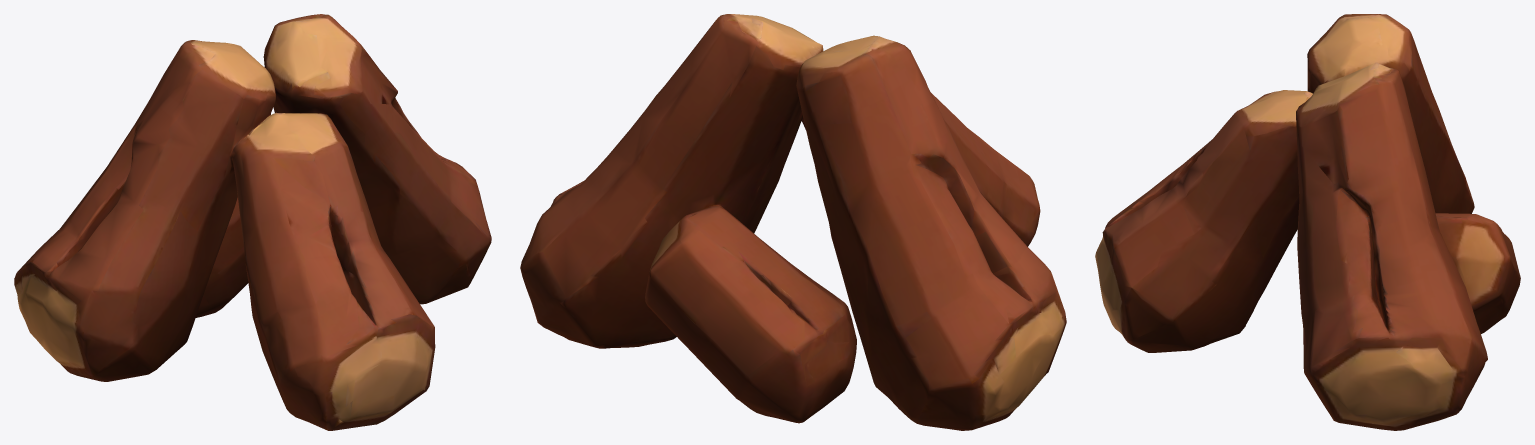
The model's file is firewood.glb.
3 renders of one model, left to right at view 1: azimuth 30°, elevation 25°; view 2: azimuth 150°, elevation 25°; view 3: azimuth 270°, elevation 25°, orthographic. The views are drawn at different scales.
Parts seen in each view (by area): view 1: firewood; view 2: firewood; view 3: firewood.
Boxes of the visible parts, x1,y1,x2,y2 form: firewood: (14,14,491,430); firewood: (520,14,1066,430); firewood: (1095,14,1520,430).
Bounding box in the file's own units: 0.4201 × 0.2821 × 0.3627.
1 material, 1 textured.
